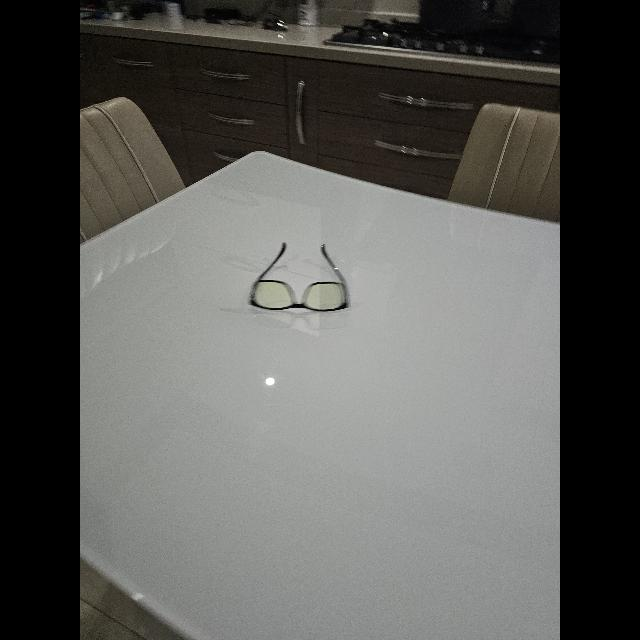glasses: (249, 242, 349, 312)
